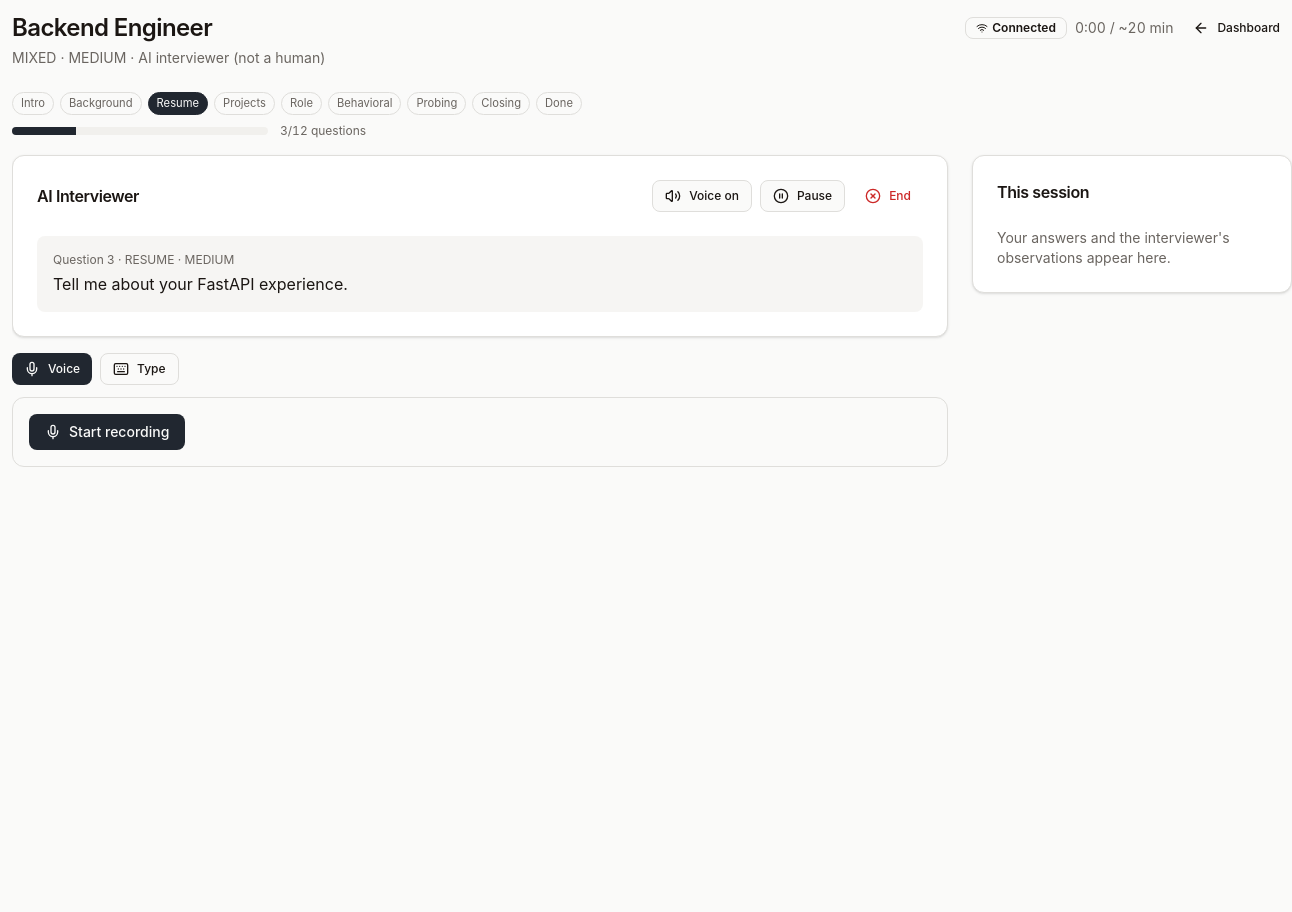
InterviewRoomPage › shows a retryable inline error when submission fails
The image size is (1292, 912).
Expected: the text "Tell me about your FastAPI experience." is shown, [53, 274, 348, 294]
Click the button "Type". click: x=139, y=369
box: [100, 353, 179, 385]
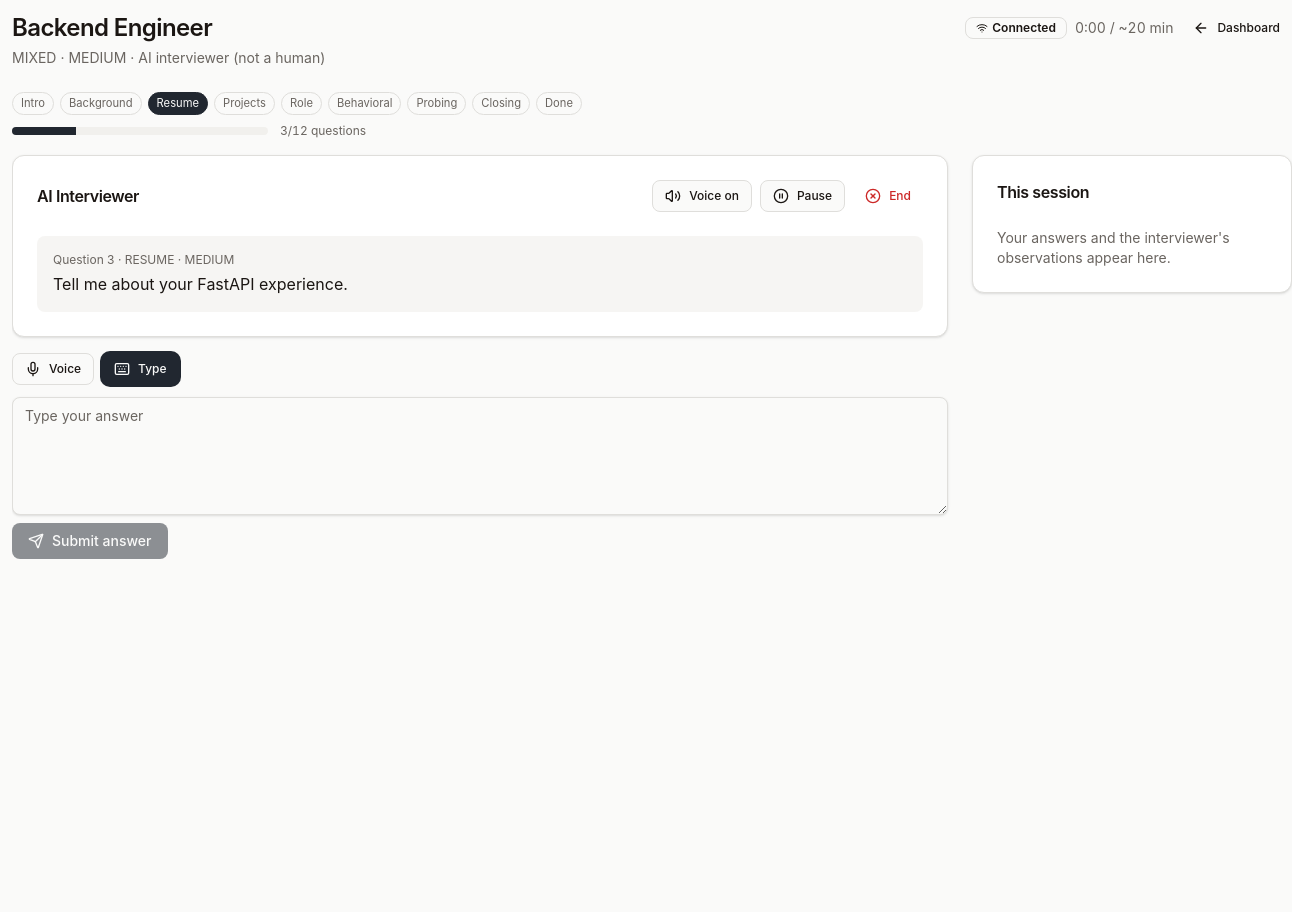
Type "Answer." into the text box named "Typed answer". click: x=480, y=456
box: [12, 397, 948, 515]
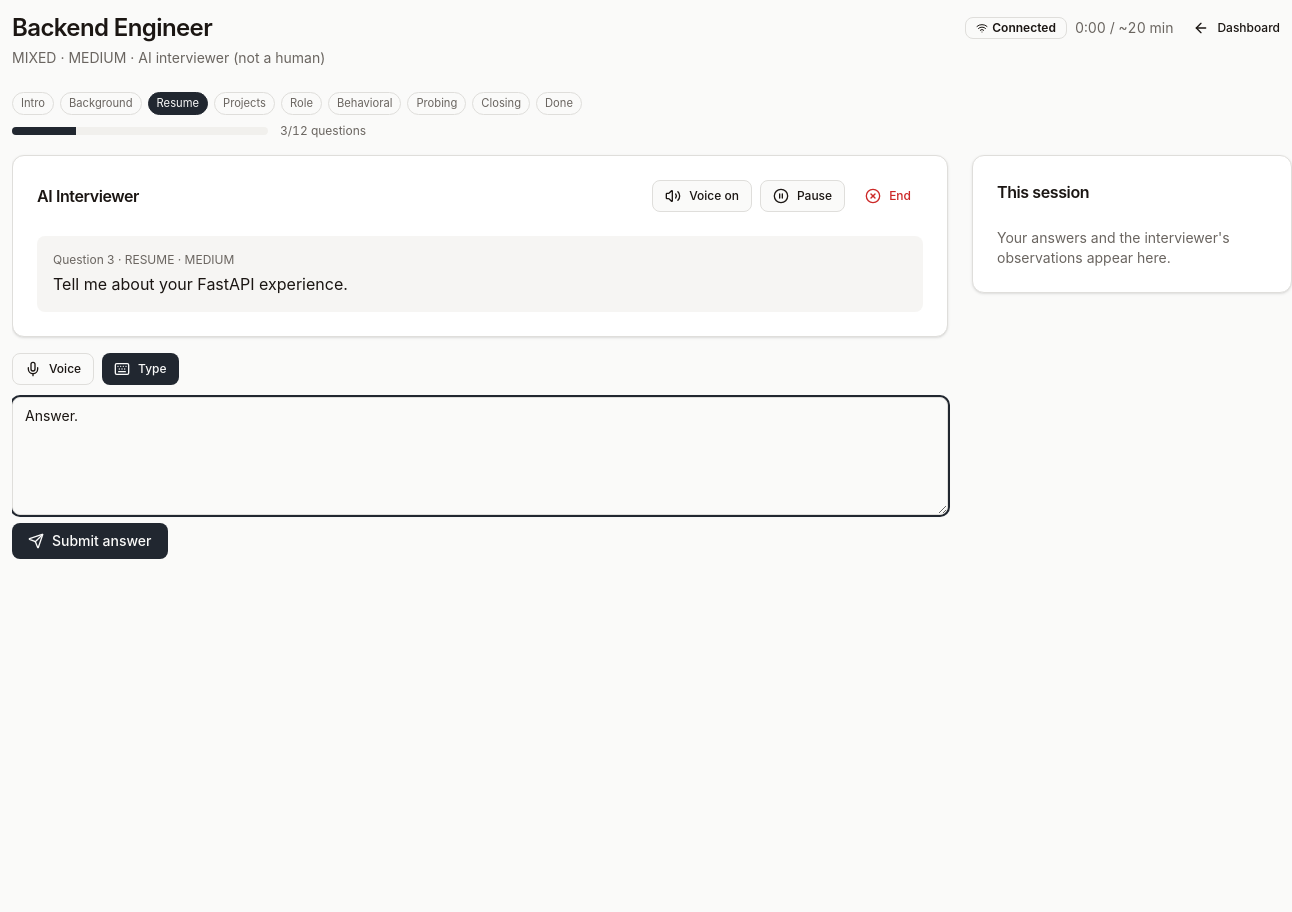
Click the button "Submit answer". click: x=90, y=541
box: [12, 523, 168, 559]
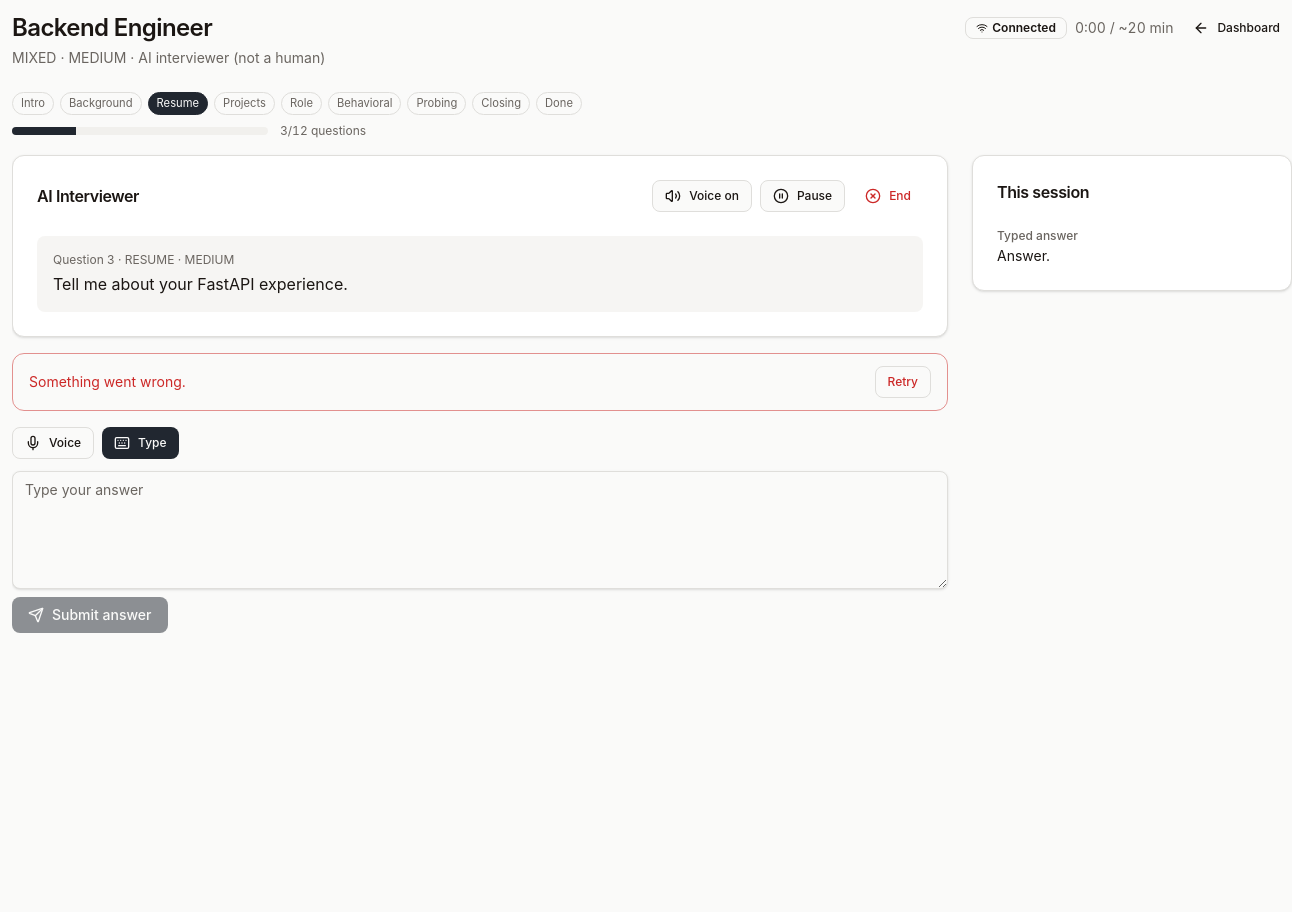
Result: the button "Retry" is shown at [874, 366, 931, 398]
